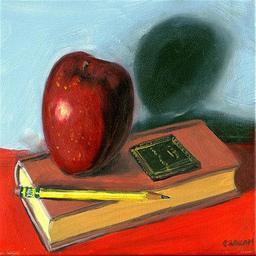apple: (40, 49, 136, 176)
